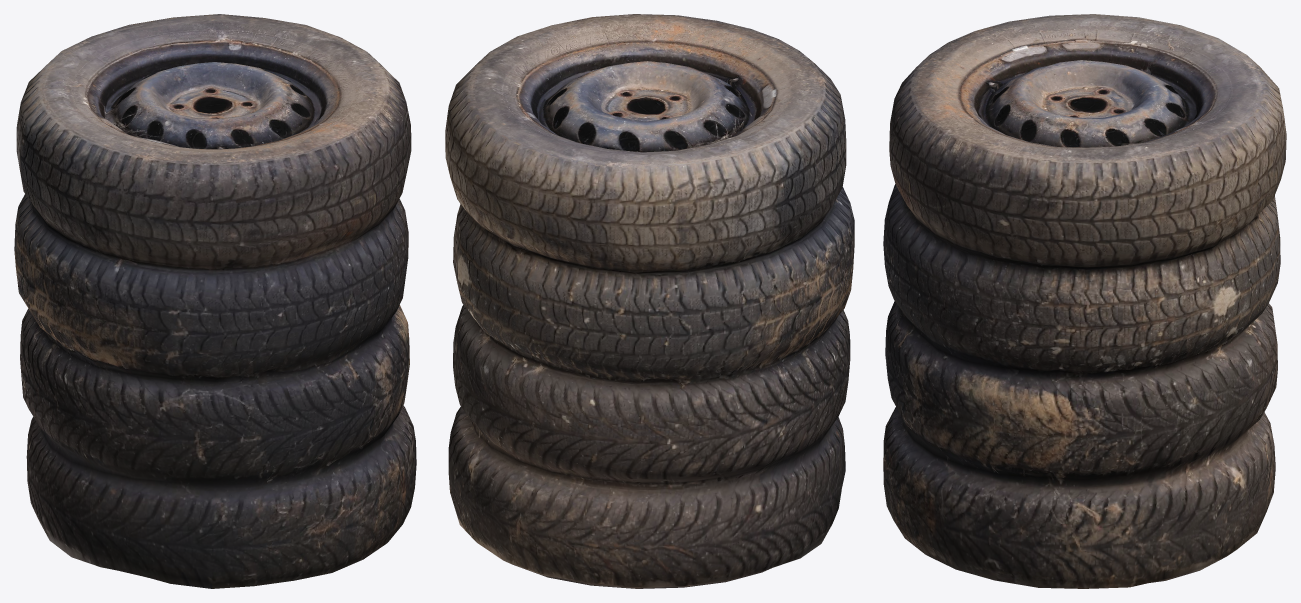
File: project.fbx
3 renders of one model, left to right at view 1: azimuth 30°, elevation 25°; view 2: azimuth 150°, elevation 25°; view 3: azimuth 270°, elevation 25°, orthographic.
Visible parts, largest first — view 1: Retopo_model to retopo; view 2: Retopo_model to retopo; view 3: Retopo_model to retopo.
Boxes of the visible parts, left/top/right/bottom form: Retopo_model to retopo: left=14, top=14, right=416, bottom=588; Retopo_model to retopo: left=445, top=14, right=854, bottom=588; Retopo_model to retopo: left=883, top=14, right=1286, bottom=588.
Size of the model in its own units: 126 by 147 by 126.
Materials: 1 (1 with a texture image).
